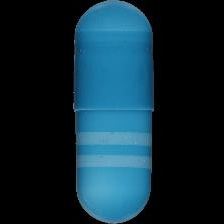0078-0379: (0, 0, 224, 224)
